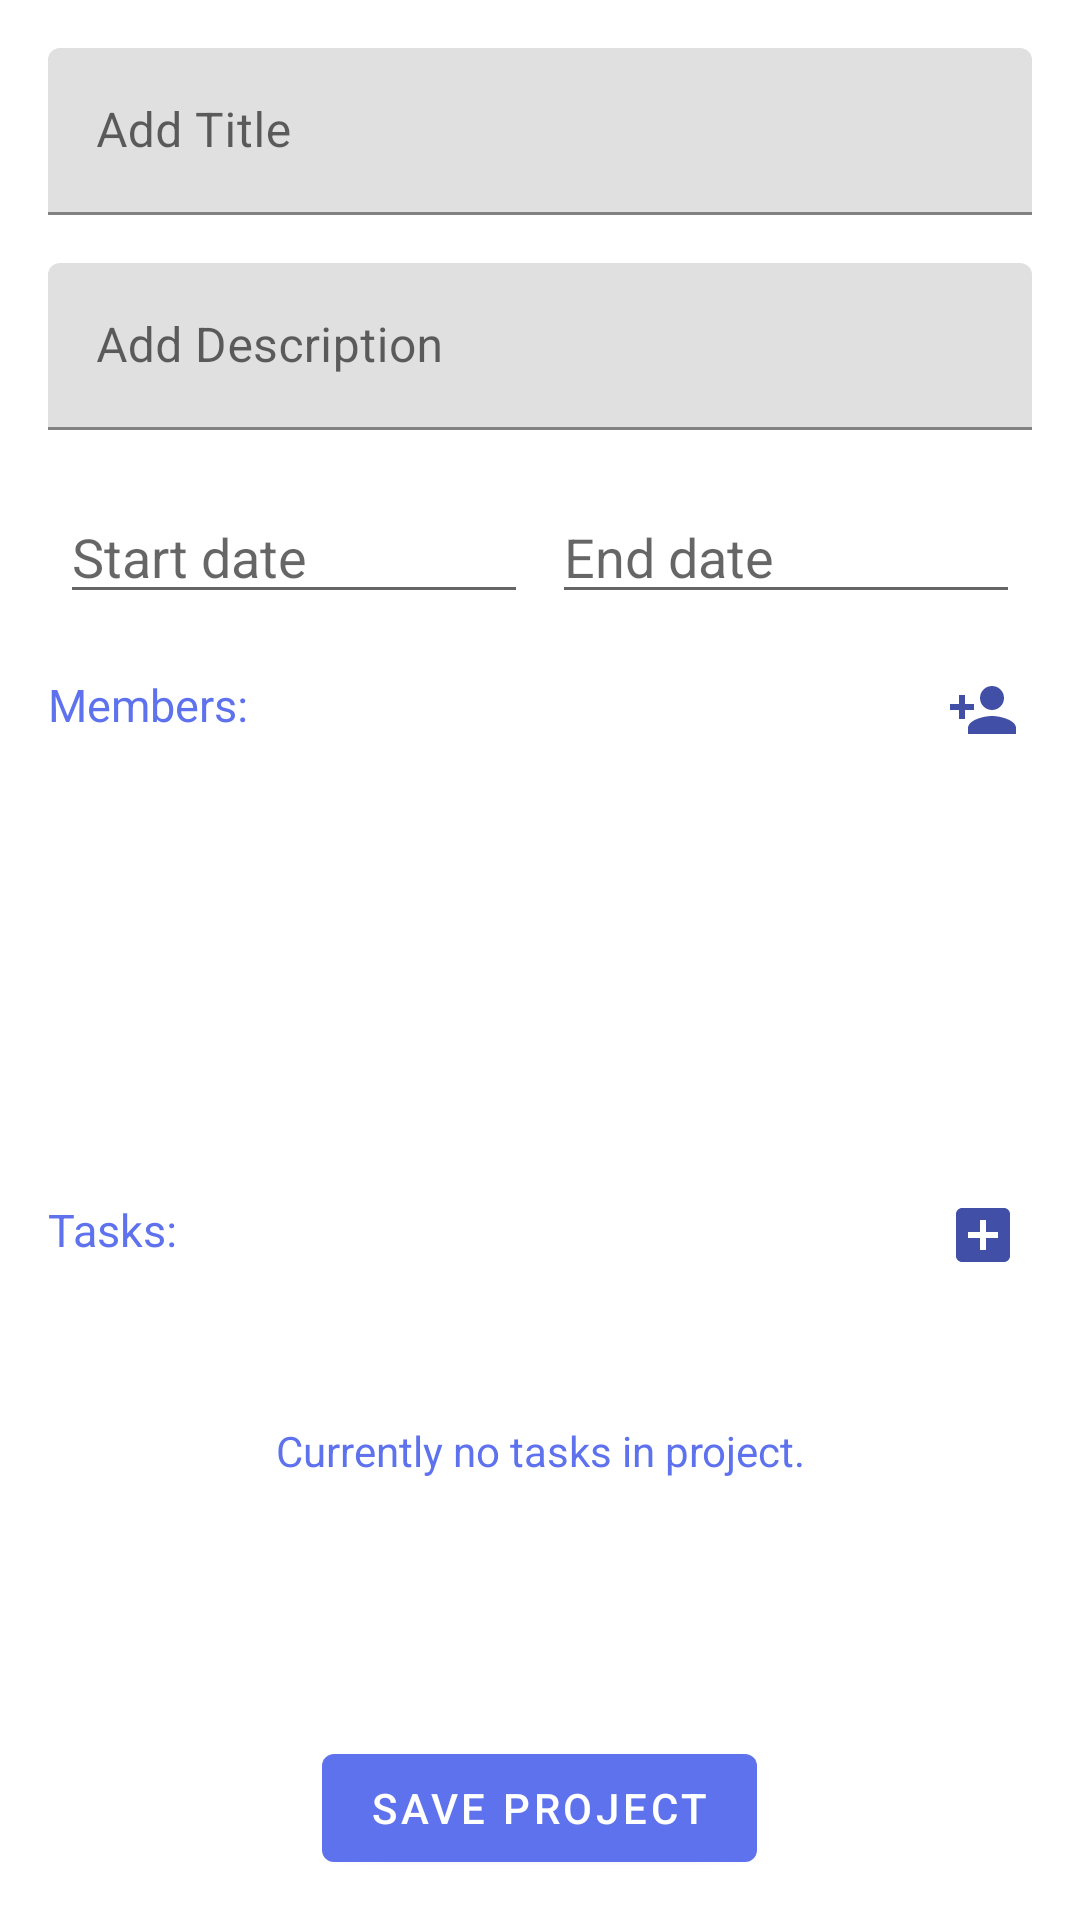

Screen size 1080px×1920px. Icon name, then its box in pixels as (x1, y1, x2, y2):
add task: (956, 1208, 1010, 1262)
person add: (950, 686, 1016, 734)
